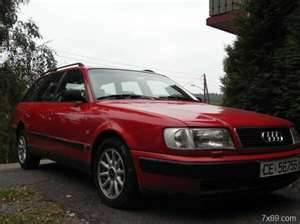Car: (4, 58, 299, 214)
